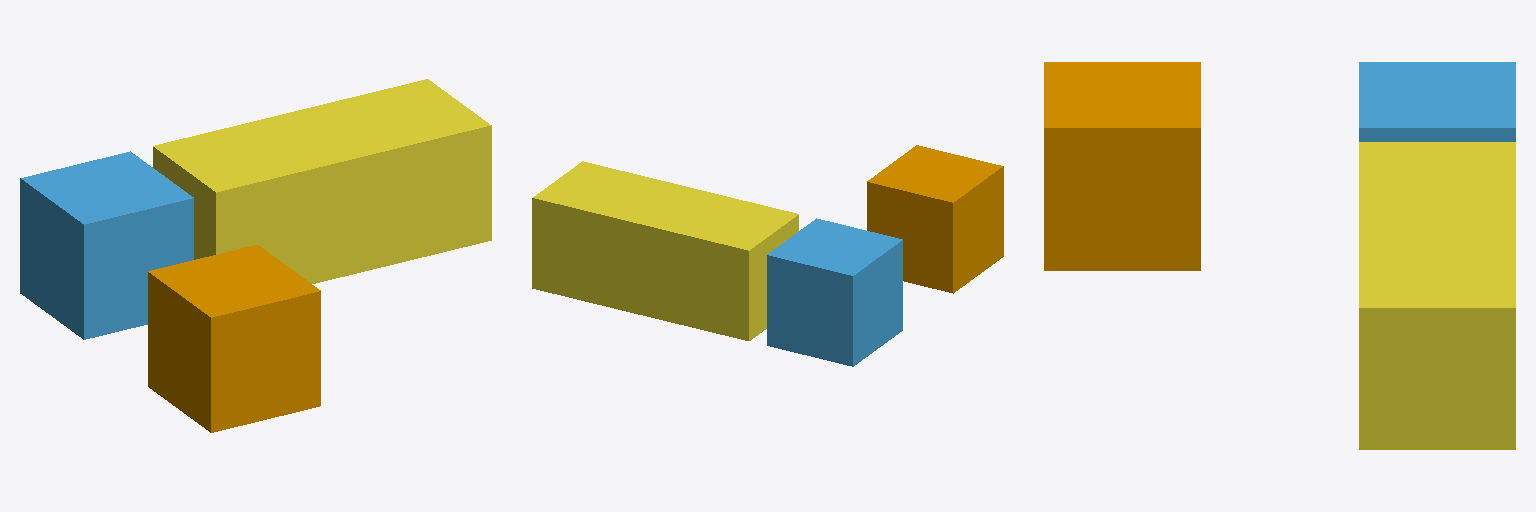
The robot description file, URDF, robot "link_skip_ghost_link_with_mimic":
<?xml version="1.0"?>
<robot name="link_skip_ghost_link_with_mimic">
    <link name="BaseLinkA">
        <visual>
            <origin rpy="0 0 0" xyz="-0.12 0 0"/>
            <geometry>
                <box size="0.2 0.2 0.2"/>
            </geometry>
        </visual>
    </link>
    <link name="BaseLinkB">
      <inertial>
        <mass value="1"/>
        <inertia ixx="0.01" iyy="0.01" izz="0.01" ixy="0" ixz="0" iyz="0"/>
      </inertial>
        <visual>
            <origin rpy="0 0 0" xyz="-0.12 0 0"/>
            <geometry>
                <box size="0.2 0.2 0.2"/>
            </geometry>
        </visual>
    </link>

    <!-- A link referenced by a mimic joint must not be a candidate for ghost link removal. -->
    <link name="linkA"/>
    <link name="linkB">
        <visual>
            <origin rpy="0 0 0" xyz="0.27 0 0"/>
            <geometry>
                <box size="0.5 0.2 0.2"/>
            </geometry>
        </visual>
    </link>

    <joint name="joint_base" type="fixed">
        <origin rpy="0 0 0" xyz="0 0.4 0"/>
        <parent link="BaseLinkA"/>
        <child link="BaseLinkB"/>
    </joint>
    <joint name="jointA" type="fixed">
        <origin rpy="0 0 0" xyz="0 0 0"/>
        <parent link="BaseLinkA"/>
        <child link="linkA"/>
    </joint>
    <joint name="jointB" type="revolute">
        <origin rpy="0 0 0" xyz="0 0 0"/>
        <parent link="BaseLinkB"/>
        <child link="linkB"/>
        <axis xyz="0 1 0"/>
        <limit lower="-0.7" upper="0.5"/>
        <mimic joint="jointA" multiplier="2.0" offset="0.0"/>
    </joint>
</robot>

--- Facts derived from the render (not from the file) ---
3 views of the same robot in one strip: view 1: azimuth 30°, elevation 25°; view 2: azimuth 150°, elevation 25°; view 3: azimuth 270°, elevation 25° (orthographic).
Robot: link_skip_ghost_link_with_mimic — 4 links, 3 joints (1 revolute, 2 fixed); root link BaseLinkA; default pose: all joints at 0.
Links seen in each view (by area): view 1: linkB, BaseLinkA, BaseLinkB; view 2: linkB, BaseLinkB, BaseLinkA; view 3: linkB, BaseLinkA, BaseLinkB.
Link boxes in pixels (<box>): linkB: <box>153,79,491,283</box>; BaseLinkA: <box>148,245,320,432</box>; BaseLinkB: <box>20,151,193,339</box>; linkB: <box>532,161,798,340</box>; BaseLinkB: <box>767,218,902,366</box>; BaseLinkA: <box>867,145,1003,293</box>; linkB: <box>1359,142,1515,449</box>; BaseLinkA: <box>1044,62,1200,270</box>; BaseLinkB: <box>1359,62,1515,141</box>.
Size in the robot's own frame: 0.74 by 0.6 by 0.2 metres.
Geometry: primitives only (box / cylinder / sphere), no mesh files.
